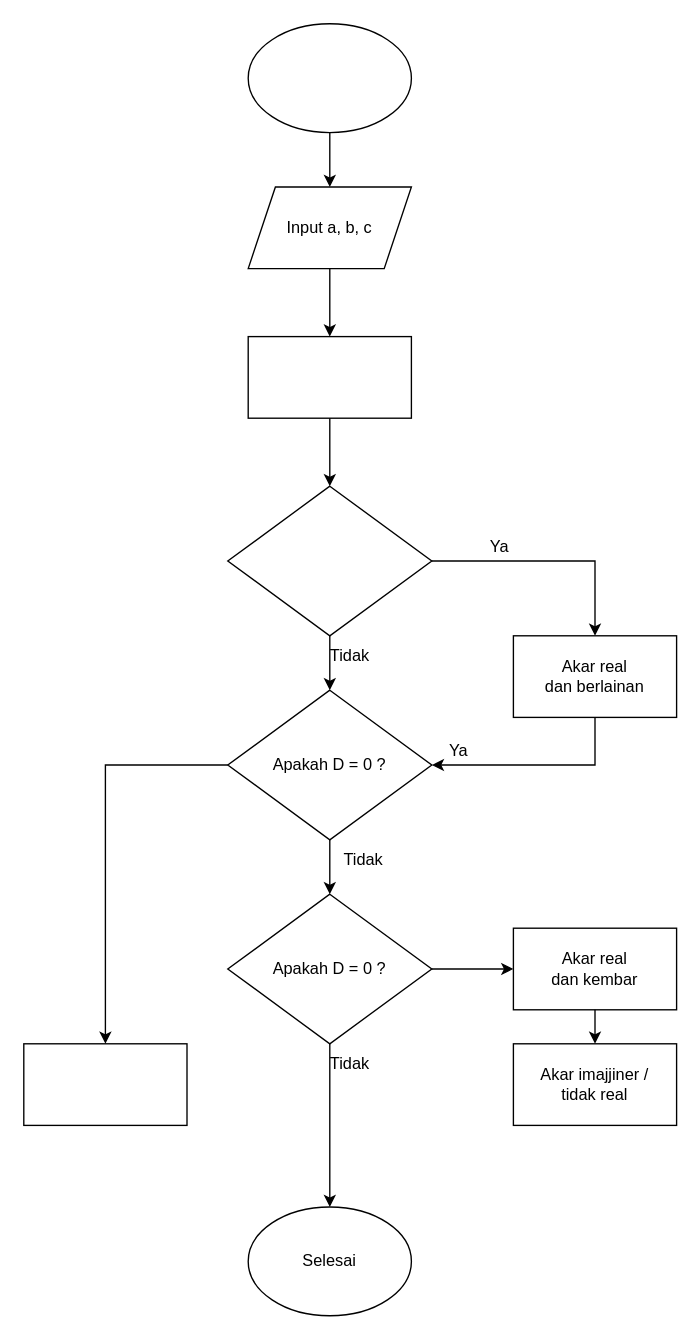
Image size: 700x1340. Some labels were removed from this diagram. Here are the shapes that lost their labels. From the top down, the centre of each, then its label:
At pixel 329 77: "Mulai".
At pixel 329 376: "Hitung D = b^2 - 4ac".
At pixel 329 560: "Apakah D > 0 ?".
At pixel 104 1083: "Akar imajiner / tidak real".
